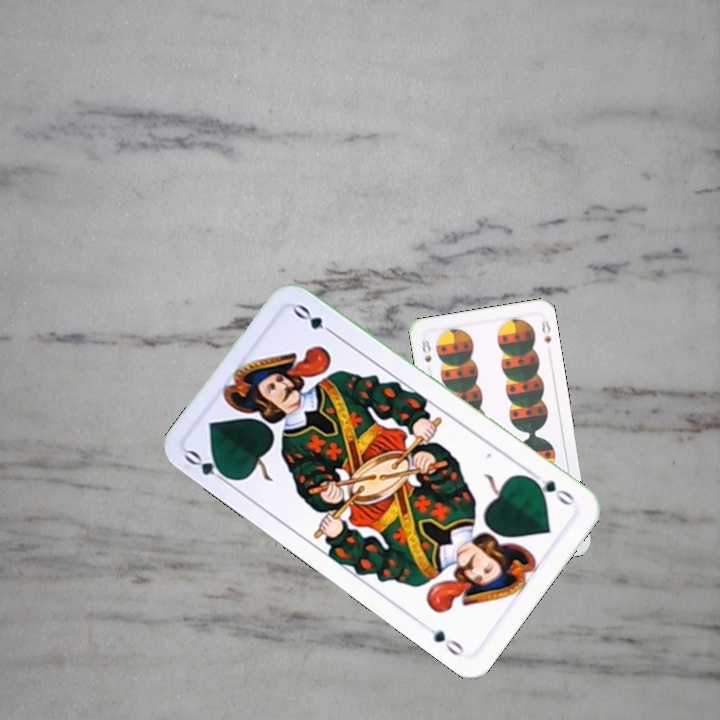GO: (180, 445, 236, 489), (525, 473, 578, 508)
S8: (418, 333, 434, 365)
